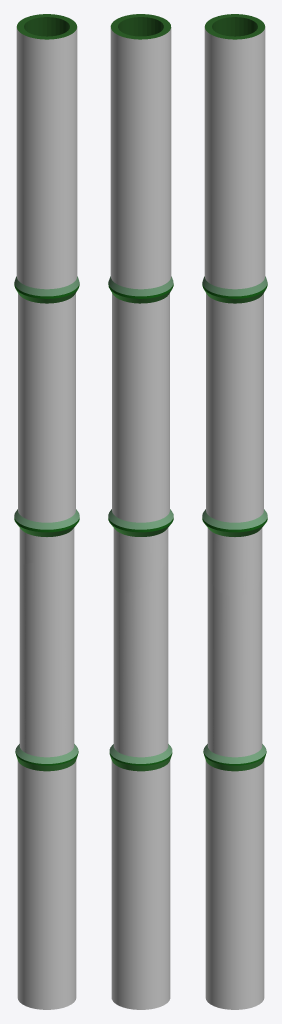
Rendered from Take.fbx.
3 views of the same model, side by side, from view 1: azimuth 90°, elevation 25°; view 2: azimuth 210°, elevation 25°; view 3: azimuth 270°, elevation 25° (orthographic).
Parts seen in each view (by area): view 1: 円柱, 円柱.001, 円柱.002; view 2: 円柱, 円柱.001, 円柱.002; view 3: 円柱, 円柱.001, 円柱.002.
Part boxes in pixels (<box>): 円柱: <box>14,14,79,1009</box>; 円柱.001: <box>17,562,76,1009</box>; 円柱.002: <box>23,17,73,564</box>; 円柱: <box>108,14,173,1009</box>; 円柱.001: <box>109,560,172,1009</box>; 円柱.002: <box>113,17,168,592</box>; 円柱: <box>202,14,267,1009</box>; 円柱.001: <box>205,570,264,1009</box>; 円柱.002: <box>207,17,262,596</box>.
Size of the model in its own units: 0.2872 by 4.69 by 0.2872.
